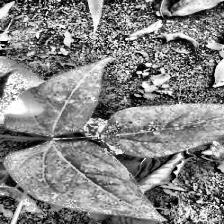ALS: (6, 140, 169, 224), (0, 59, 108, 133), (97, 102, 224, 156)
